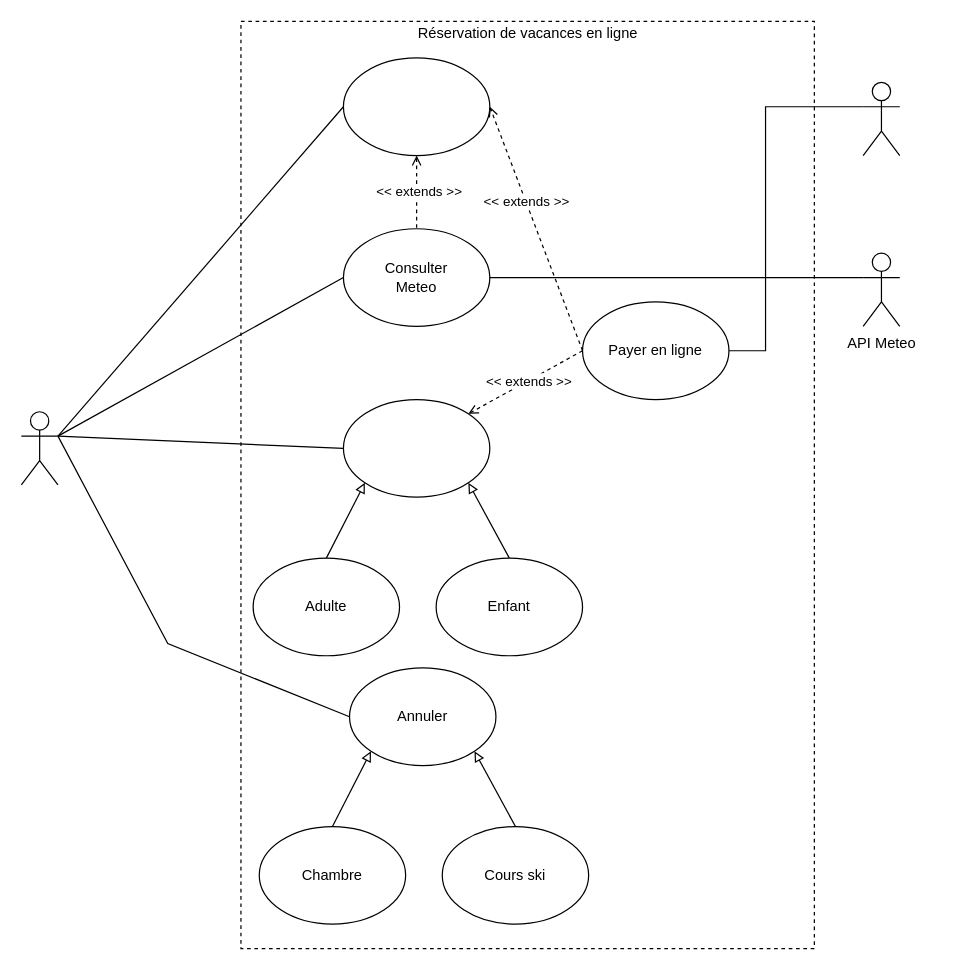
Image size: 956x970. Some labels were removed from this diagram. The box of each missing label's shape, as (x1, y1, x2, y2) in pixels:
Client: (20, 411, 58, 485)
Payment service: (862, 81, 900, 156)
Réserver un cours de ski: (342, 398, 490, 497)
Réserver une chambre: (342, 57, 490, 156)
